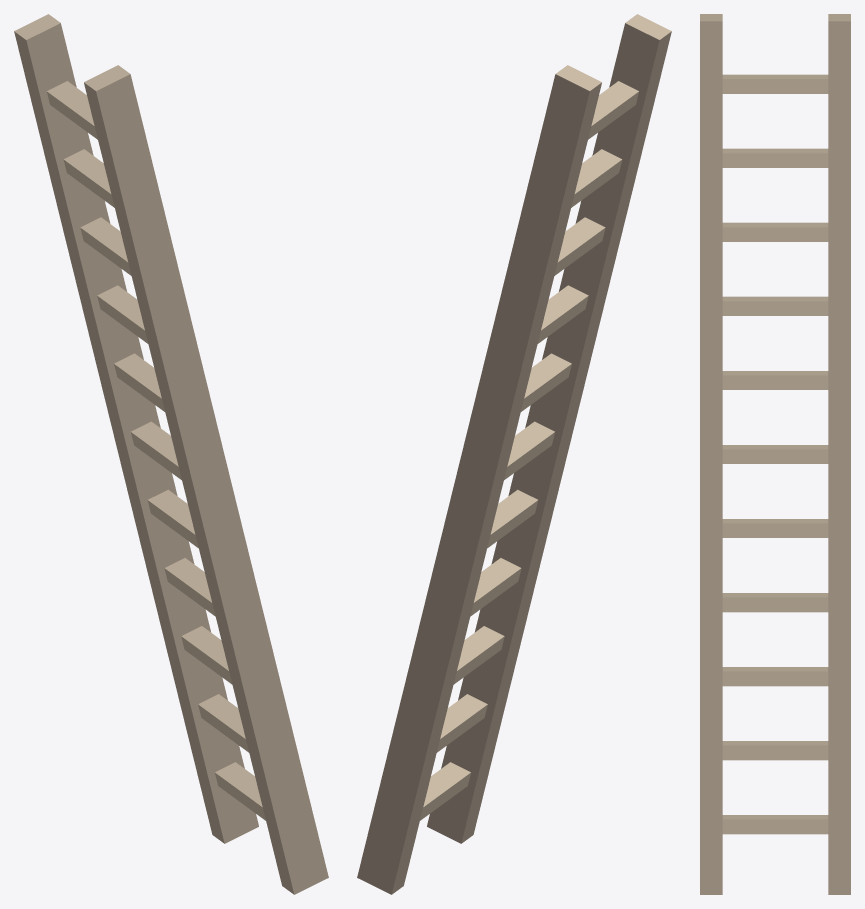
The model's file is object1_104-col.gltf.
3 views of the same model, side by side, from view 1: azimuth 30°, elevation 25°; view 2: azimuth 150°, elevation 25°; view 3: azimuth 270°, elevation 25° (orthographic). The views are drawn at different scales.
Visible parts, largest first — view 1: object1.104-col; view 2: object1.104-col; view 3: object1.104-col.
Part boxes in pixels (x1=…): object1.104-col: x1=14, y1=14, x2=328, y2=894; object1.104-col: x1=357, y1=14, x2=671, y2=894; object1.104-col: x1=700, y1=14, x2=850, y2=894.
Size of the model in its own units: 1.11 by 3.93 by 0.678.
